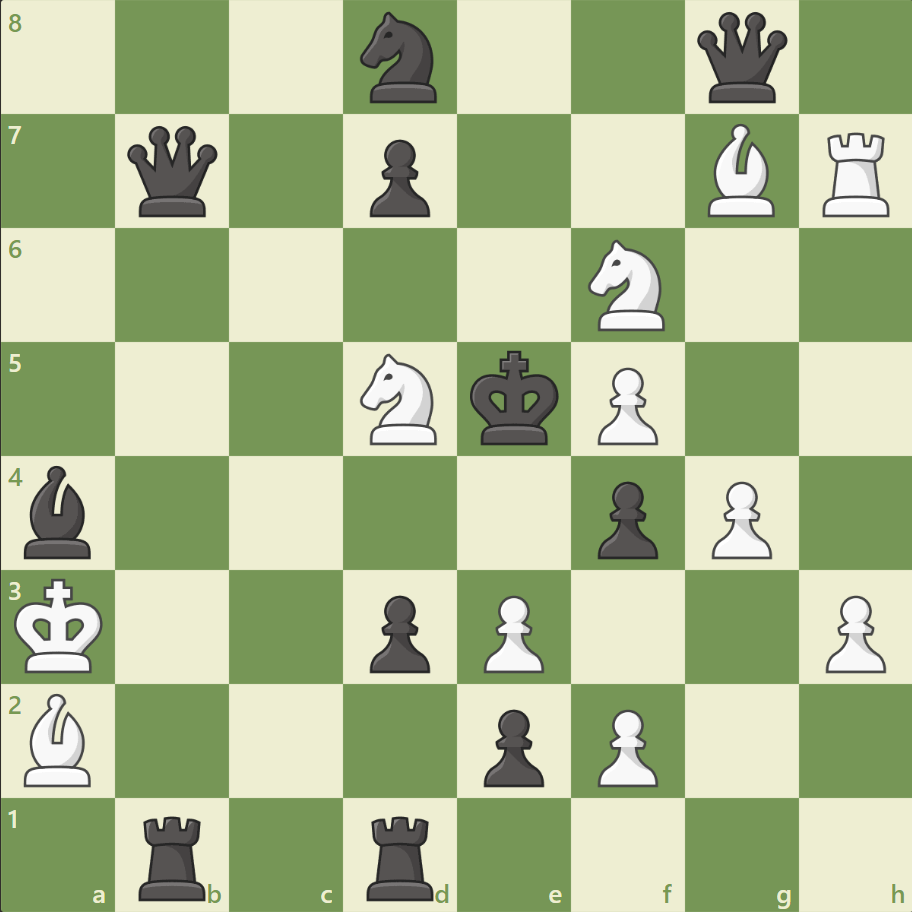B: (17, 687, 101, 790), (698, 120, 782, 222)
K: (11, 571, 111, 679)
N: (351, 348, 449, 450), (579, 234, 676, 337)
P: (701, 473, 776, 564), (474, 586, 549, 677), (588, 359, 662, 450), (815, 586, 889, 677), (588, 700, 662, 791)
R: (814, 125, 897, 222)
b: (17, 460, 101, 563)
k: (465, 344, 565, 452)
n: (351, 7, 449, 110)
p: (474, 700, 549, 791), (361, 132, 435, 223), (588, 473, 662, 564), (361, 586, 435, 677)
q: (124, 122, 223, 222), (691, 9, 790, 108)
r: (133, 806, 215, 904), (360, 806, 442, 904)
